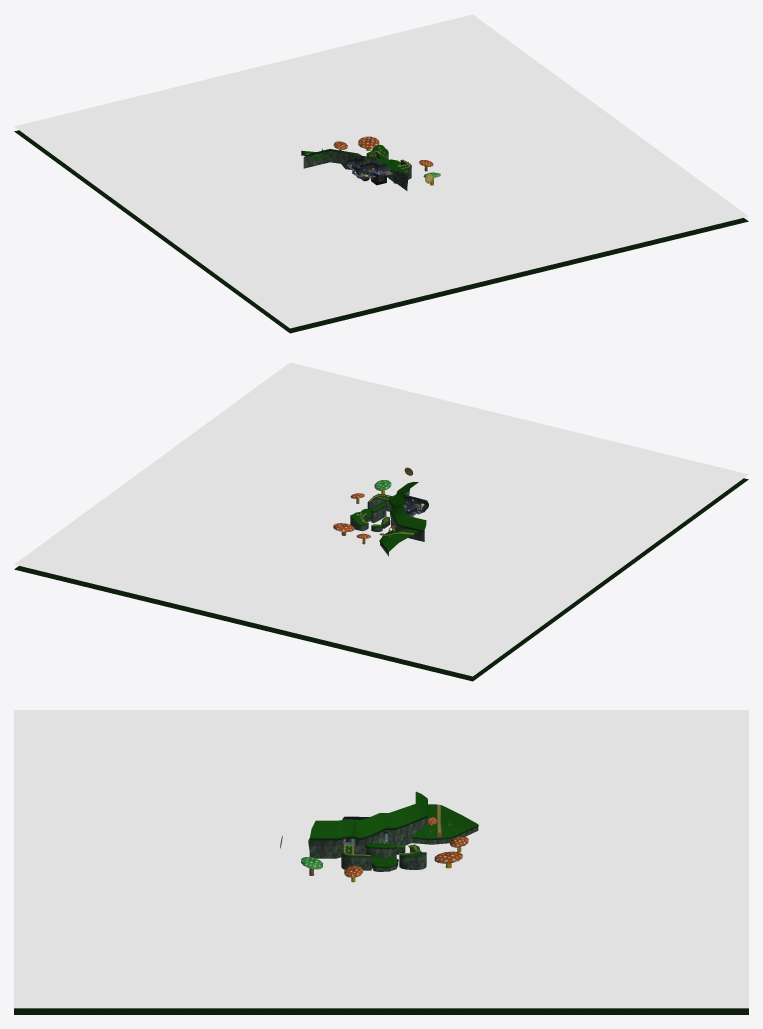
The picture shows the model from 3 angles, top to bottom: view 1: azimuth 30°, elevation 25°; view 2: azimuth 150°, elevation 25°; view 3: azimuth 270°, elevation 25°; orthographic projection. The views are drawn at different scales.
Visible parts, largest first — view 1: Mushroom_Peaks_NEWEST-SKP--fog, Mushroom_Peaks_NEWEST-SKP--abyss, Mushroom_Peaks_NEWEST-SKP--Wall_outside, Mushroom_Peaks_NEWEST-SKP--grass; view 2: Mushroom_Peaks_NEWEST-SKP--fog, Mushroom_Peaks_NEWEST-SKP--abyss, Mushroom_Peaks_NEWEST-SKP--grass, Mushroom_Peaks_NEWEST-SKP--Wall_outside; view 3: Mushroom_Peaks_NEWEST-SKP--fog, Mushroom_Peaks_NEWEST-SKP--abyss, Mushroom_Peaks_NEWEST-SKP--grass, Mushroom_Peaks_NEWEST-SKP--Wall_outside, Mushroom_Peaks_NEWEST-SKP--mushrooms, Mushroom_Peaks_NEWEST-SKP--grass_edge.
Boxes of the visible parts, x1,y1,x2,y2 form: Mushroom_Peaks_NEWEST-SKP--fog: (14,14,748,328); Mushroom_Peaks_NEWEST-SKP--abyss: (14,130,748,333); Mushroom_Peaks_NEWEST-SKP--Wall_outside: (301,150,411,190); Mushroom_Peaks_NEWEST-SKP--grass: (304,144,411,174); Mushroom_Peaks_NEWEST-SKP--fog: (14,362,748,676); Mushroom_Peaks_NEWEST-SKP--abyss: (14,478,748,681); Mushroom_Peaks_NEWEST-SKP--grass: (350,482,426,551); Mushroom_Peaks_NEWEST-SKP--Wall_outside: (350,491,424,556); Mushroom_Peaks_NEWEST-SKP--fog: (14,710,748,1008); Mushroom_Peaks_NEWEST-SKP--abyss: (14,1008,748,1014); Mushroom_Peaks_NEWEST-SKP--grass: (310,791,477,866); Mushroom_Peaks_NEWEST-SKP--Wall_outside: (308,817,478,871); Mushroom_Peaks_NEWEST-SKP--mushrooms: (301,817,468,876); Mushroom_Peaks_NEWEST-SKP--grass_edge: (309,799,478,867).
Bounding box in the file's own units: 1178230 × 69789 × 1227693.
Materials: 37 (36 with a texture image).
